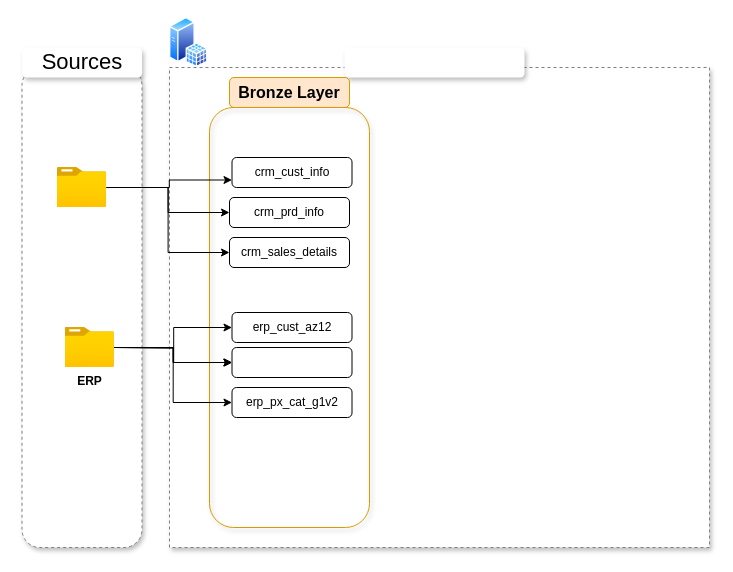
The diagram is 733 pixels wide and 572 high, and some of its shapes have lost their labels. Each missing label, with the centre of its shape:
"CRM" belongs at (x=81, y=187).
"Data Warehouse" belongs at (x=435, y=63).
"erp_loc_a101" belongs at (x=291, y=362).
